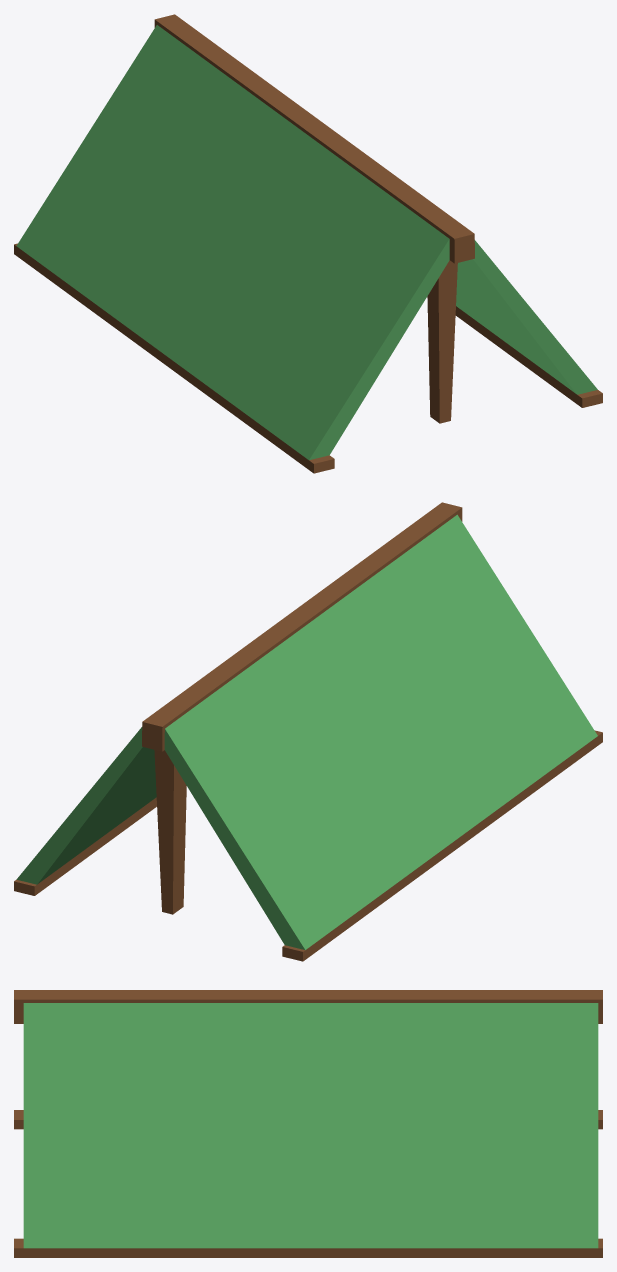
File: Tent01.fbx
The picture shows the model from 3 angles, top to bottom: view 1: azimuth 30°, elevation 25°; view 2: azimuth 150°, elevation 25°; view 3: azimuth 270°, elevation 25°; orthographic projection.
Parts seen in each view (by area): view 1: Cube; view 2: Cube; view 3: Cube.
Boxes of the visible parts, box(x1,y1,x2,y2) form: Cube: box(14, 14, 602, 473); Cube: box(14, 502, 602, 961); Cube: box(14, 990, 602, 1257).
Size of the model in its own units: 341 by 226 by 613.
